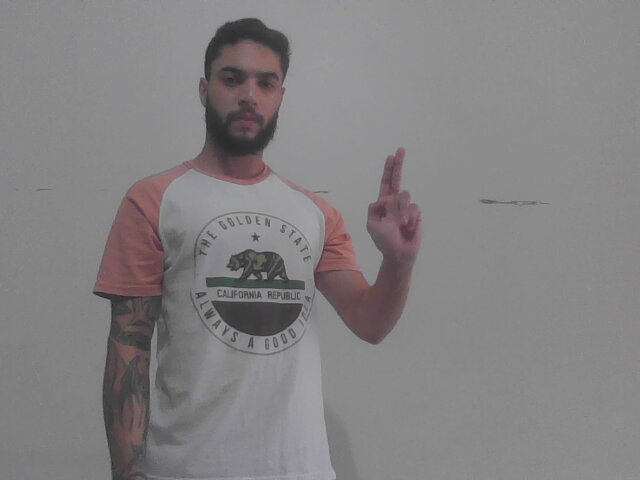u: (360, 146, 431, 266)
